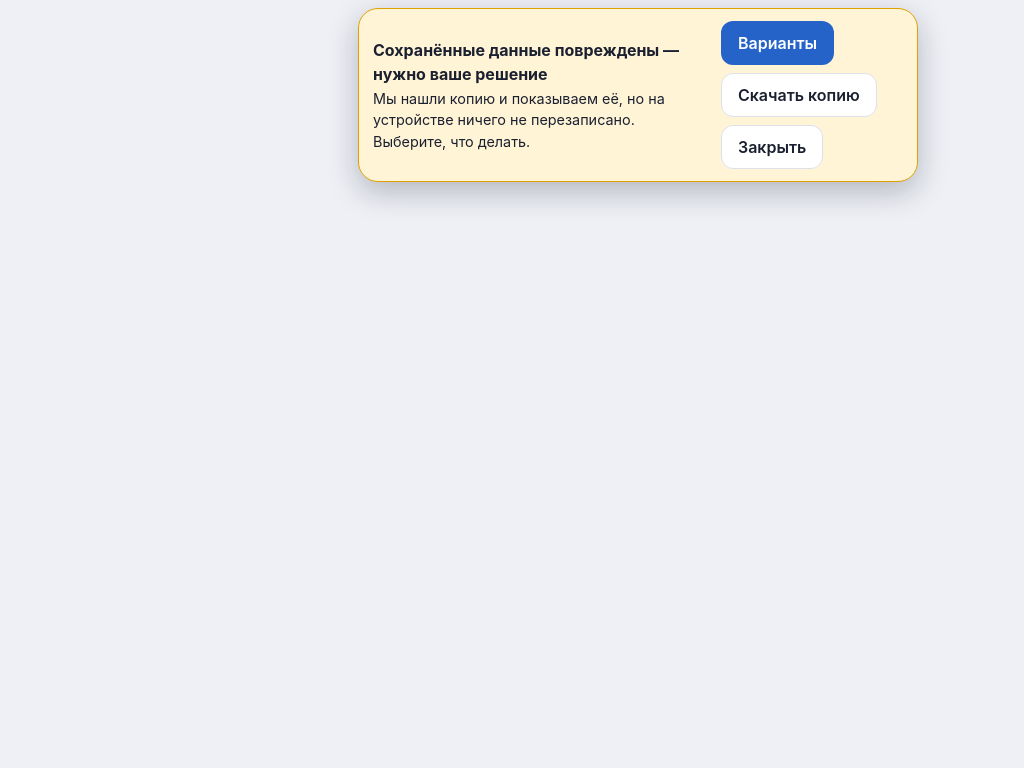
Test: recovery screen: restoring a verified backup › offers Restore only for intact + usable copies
The width and height of the screenshot is (1024, 768).
Step 1. Click the button "Варианты" → x=778, y=43, box [721,21,834,65]
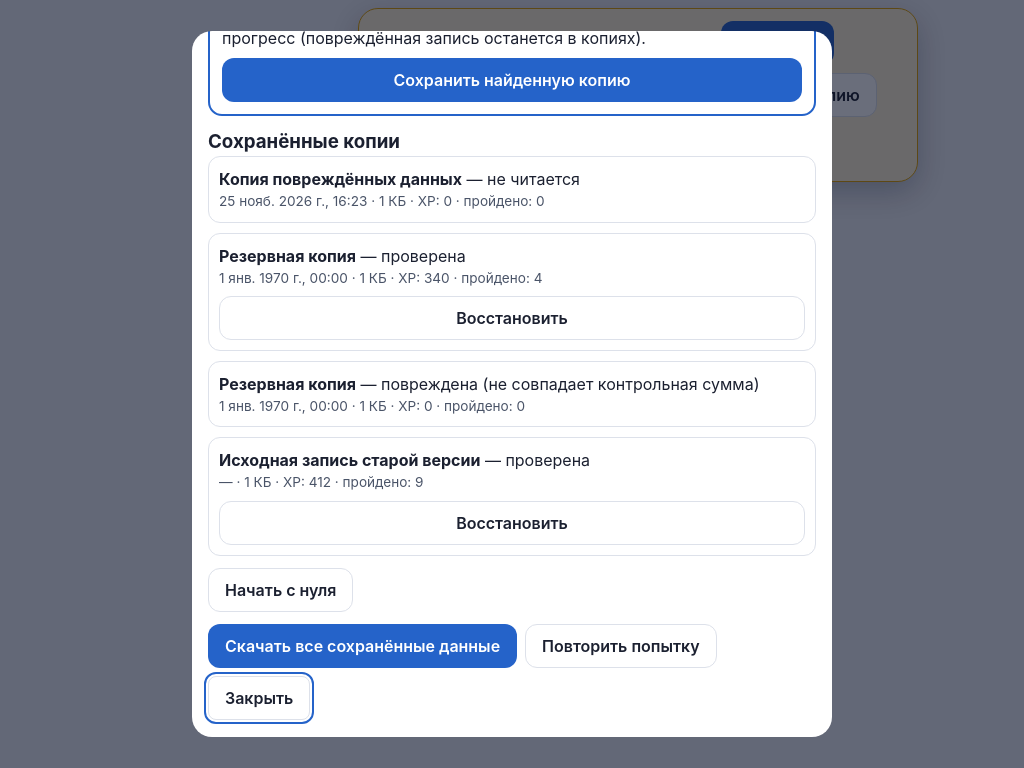
expect the number of buttons "Восстановить" is 2: met, box [219,296,805,340]; [219,501,805,545]
